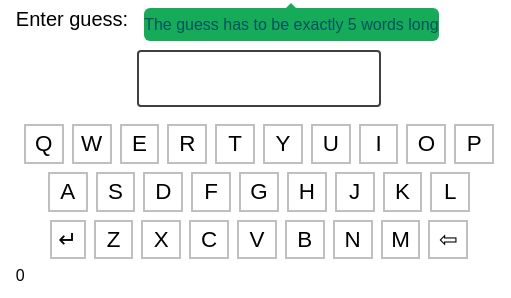
it: GuessBar › should have its keyboard letters working
 1st row
What coordinates should you click on to do the following:
click the text "Q"
I would click on:
 (44, 144)
Its box is x1=24 y1=124 x2=64 y2=164.
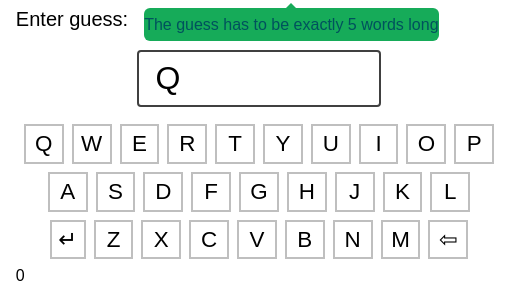
Expected: the field holds "Q", x1=137 y1=50 x2=381 y2=107
 2nd row
What coordinates should you click on to do the following:
click the text "A"
I would click on:
 (68, 192)
Its box is x1=48 y1=172 x2=88 y2=212.
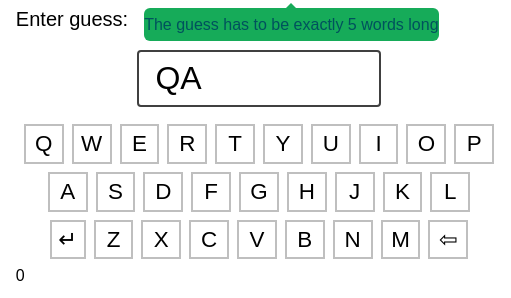
Expected: the field holds "QA", x1=137 y1=50 x2=381 y2=107
What coordinates should you click on to do the following:
click the text "⇦"
I would click on:
 (448, 240)
Its box is x1=428 y1=220 x2=468 y2=260.
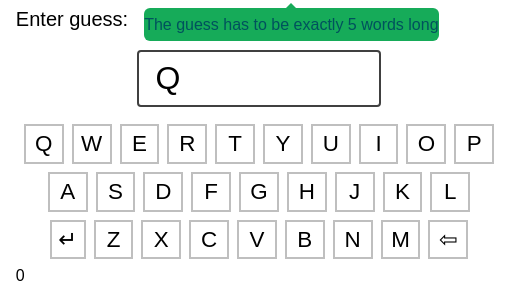
Expected: the field holds "Q", x1=137 y1=50 x2=381 y2=107
3rd row 
What coordinates should you click on to do the following:
click the text "Z"
I would click on:
 (114, 240)
Its box is x1=94 y1=220 x2=133 y2=260.
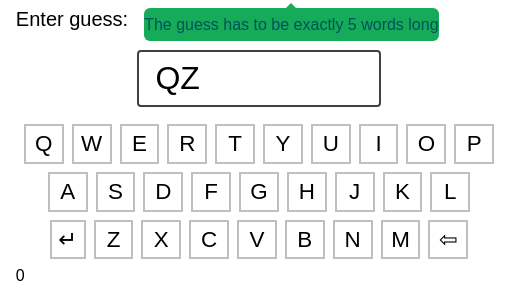
Expected: the field holds "QZ", x1=137 y1=50 x2=381 y2=107
